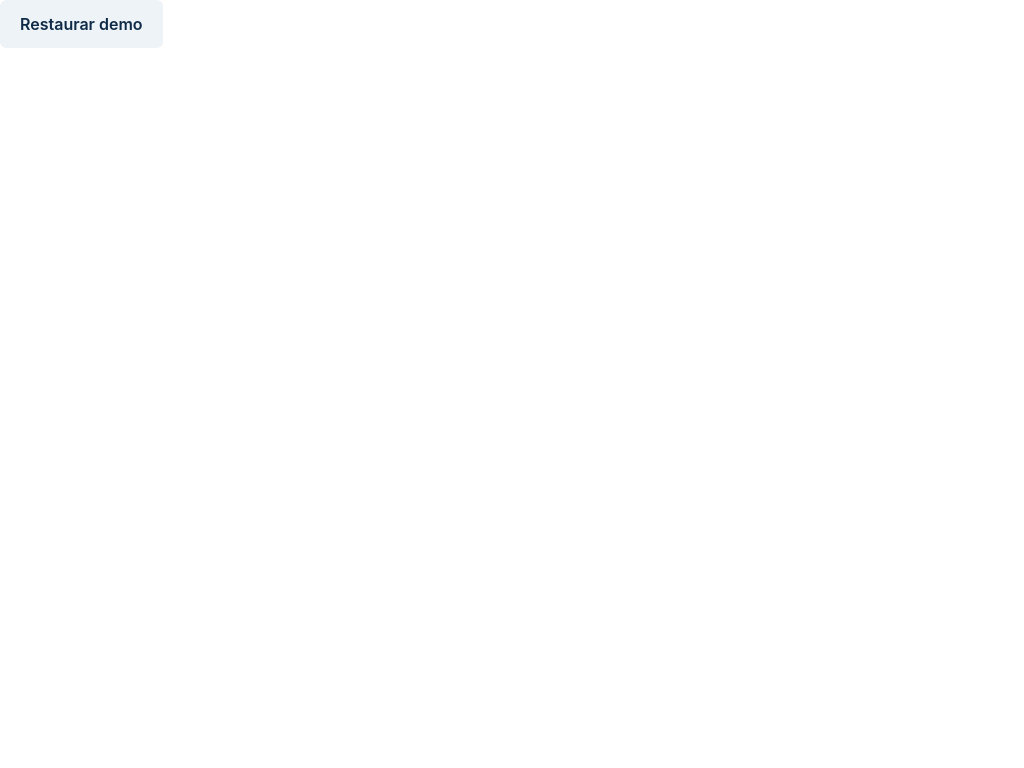
Test: pide confirmación antes de restaurar y no hace nada si se cancela
The width and height of the screenshot is (1024, 768).
What coordinates should you click on to do the following:
click the button "Restaurar demo"
I would click on:
 (81, 24)
Its box is [0, 0, 163, 48].
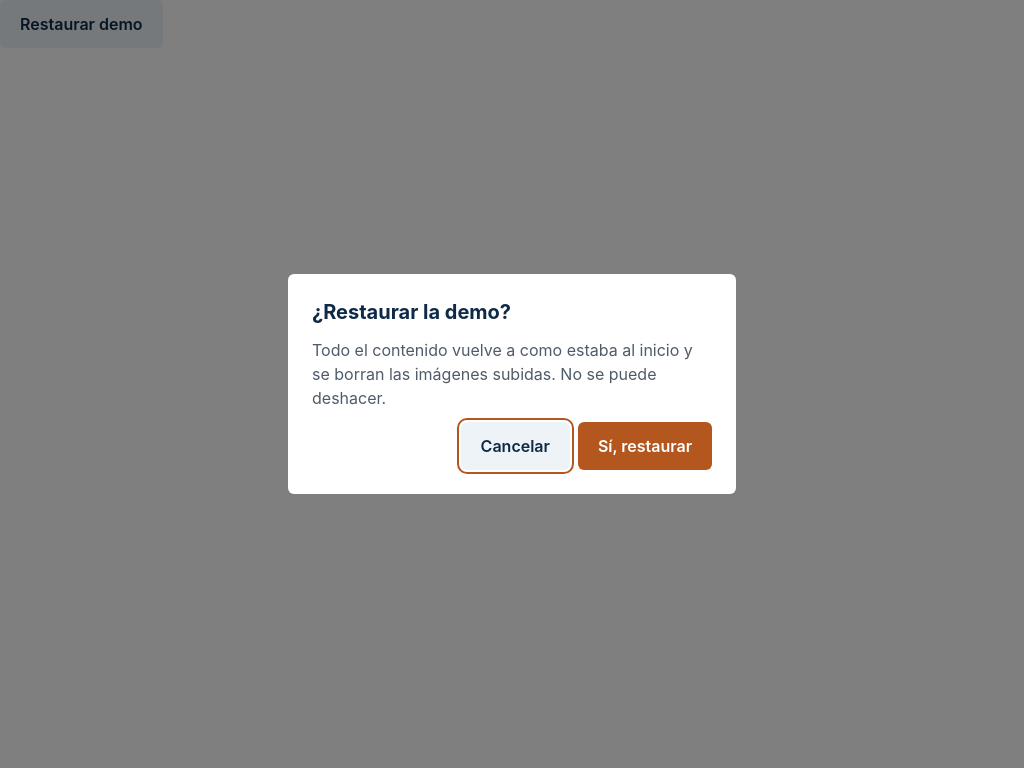
expect the dialog "¿Restaurar la demo?" is shown: met, box [288, 274, 736, 494]
What coordinates should you click on to do the following:
click the button "Cancelar"
I would click on:
 (515, 446)
Its box is [461, 422, 570, 470].
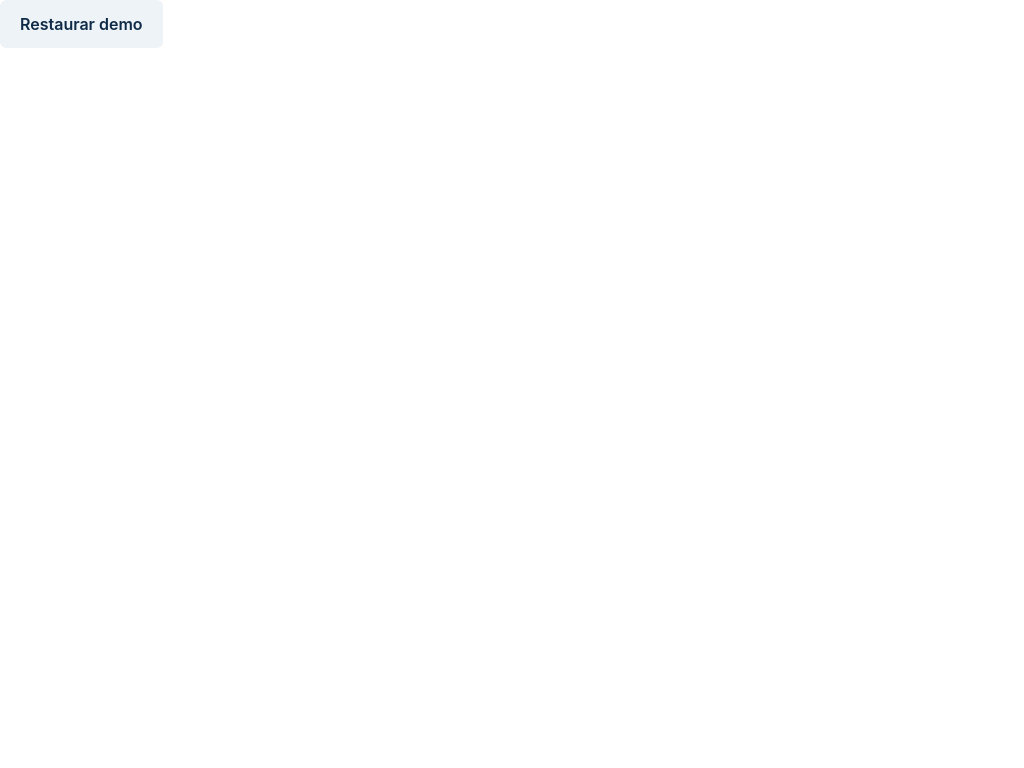
expect the dialog is gone: met
